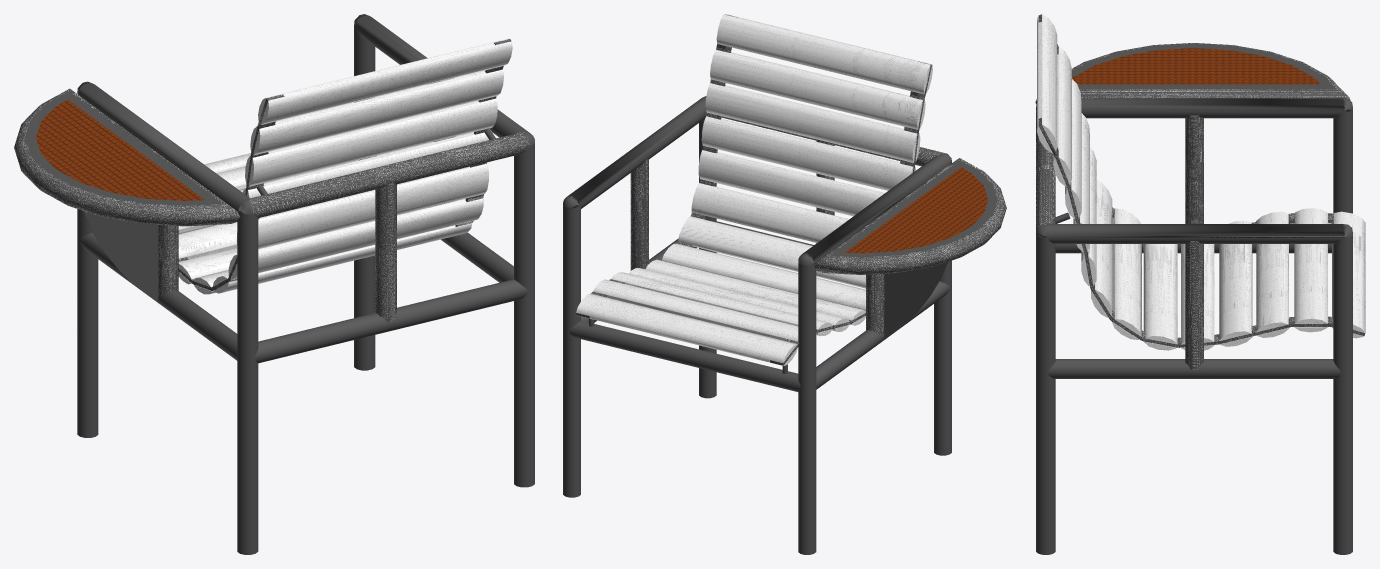
The picture shows the model from 3 angles, left to right: view 1: azimuth 30°, elevation 25°; view 2: azimuth 150°, elevation 25°; view 3: azimuth 270°, elevation 25°; orthographic projection. The views are drawn at different scales.
Parts seen in each view (by area): view 1: mesh10_mesh10-geometry, mesh1_mesh1-geometry, mesh9_mesh9-geometry, mesh4_mesh4-geometry, mesh75_mesh75-geometry, mesh5_mesh5-geometry, mesh8_mesh8-geometry, mesh76_mesh76-geometry, mesh3_mesh3-geometry, mesh11_mesh11-geometry; view 2: mesh10_mesh10-geometry, mesh1_mesh1-geometry, mesh9_mesh9-geometry, mesh4_mesh4-geometry, mesh5_mesh5-geometry, mesh3_mesh3-geometry, mesh8_mesh8-geometry, mesh76_mesh76-geometry, mesh11_mesh11-geometry, mesh75_mesh75-geometry; view 3: mesh10_mesh10-geometry, mesh1_mesh1-geometry, mesh9_mesh9-geometry, mesh3_mesh3-geometry, mesh4_mesh4-geometry, mesh8_mesh8-geometry, mesh5_mesh5-geometry, mesh11_mesh11-geometry, mesh75_mesh75-geometry.
Part boxes in pixels (x1,y1,x2,y2): mesh10_mesh10-geometry: (178, 38, 512, 294); mesh1_mesh1-geometry: (77, 27, 534, 554); mesh9_mesh9-geometry: (14, 88, 239, 226); mesh4_mesh4-geometry: (80, 207, 527, 363); mesh75_mesh75-geometry: (248, 132, 529, 217); mesh5_mesh5-geometry: (158, 136, 454, 322); mesh8_mesh8-geometry: (77, 81, 252, 214); mesh76_mesh76-geometry: (83, 211, 158, 300); mesh3_mesh3-geometry: (354, 14, 534, 145); mesh11_mesh11-geometry: (178, 39, 511, 290); mesh10_mesh10-geometry: (576, 14, 932, 365); mesh1_mesh1-geometry: (563, 119, 951, 554); mesh9_mesh9-geometry: (814, 158, 1006, 274); mesh4_mesh4-geometry: (569, 221, 949, 391); mesh5_mesh5-geometry: (630, 139, 884, 335); mesh3_mesh3-geometry: (563, 96, 706, 208); mesh8_mesh8-geometry: (798, 153, 951, 265); mesh76_mesh76-geometry: (884, 262, 947, 337); mesh11_mesh11-geometry: (576, 14, 931, 365); mesh75_mesh75-geometry: (721, 116, 944, 166); mesh10_mesh10-geometry: (1037, 14, 1365, 350); mesh1_mesh1-geometry: (1036, 109, 1352, 554); mesh9_mesh9-geometry: (1035, 43, 1350, 104); mesh3_mesh3-geometry: (1036, 224, 1352, 243); mesh4_mesh4-geometry: (1048, 244, 1340, 378); mesh8_mesh8-geometry: (1036, 98, 1352, 118); mesh5_mesh5-geometry: (1185, 115, 1203, 369); mesh11_mesh11-geometry: (1038, 14, 1365, 347); mesh75_mesh75-geometry: (1036, 104, 1055, 233).
Bounding box in the file's own units: 0.6196 × 0.6386 × 0.4563.
